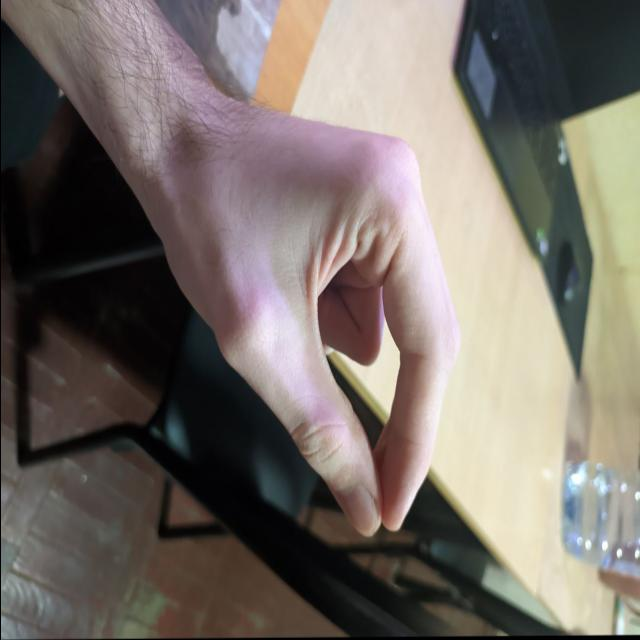ch: (166, 75, 488, 545)
